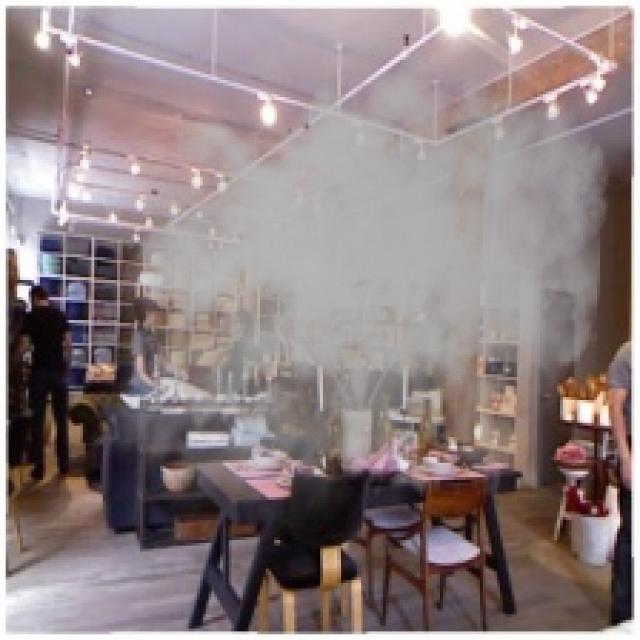Smoke: (86, 34, 612, 557)
